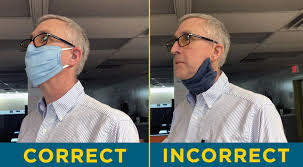mask_weared_incorrect: (166, 23, 224, 90)
with_mask: (23, 25, 70, 87)
